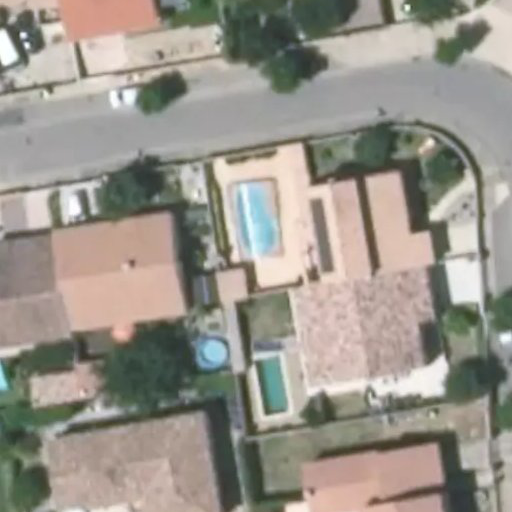pool: (232, 208, 279, 274)
